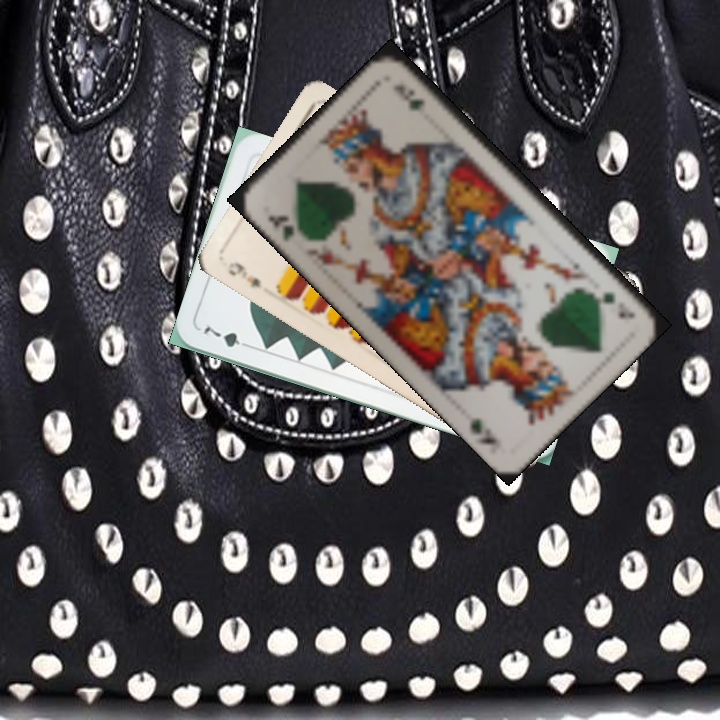E9: (223, 257, 265, 291)
G7: (199, 322, 255, 352)
GK: (598, 287, 638, 323), (263, 211, 297, 245)
